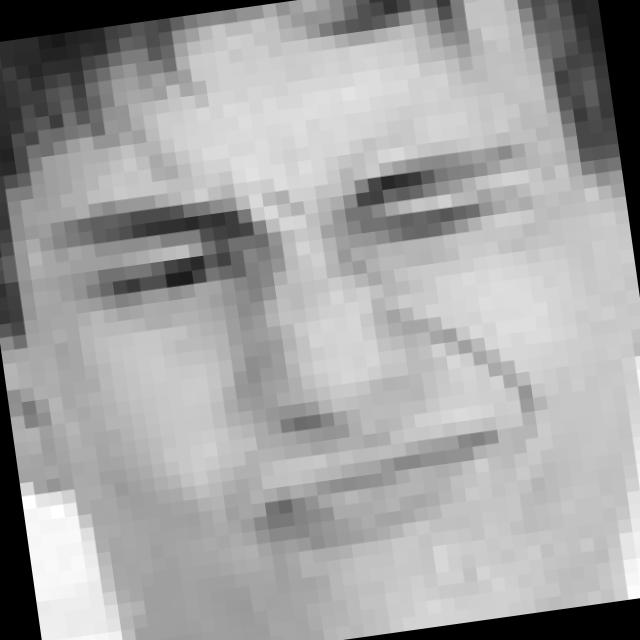disgust: (52, 136, 590, 604)
